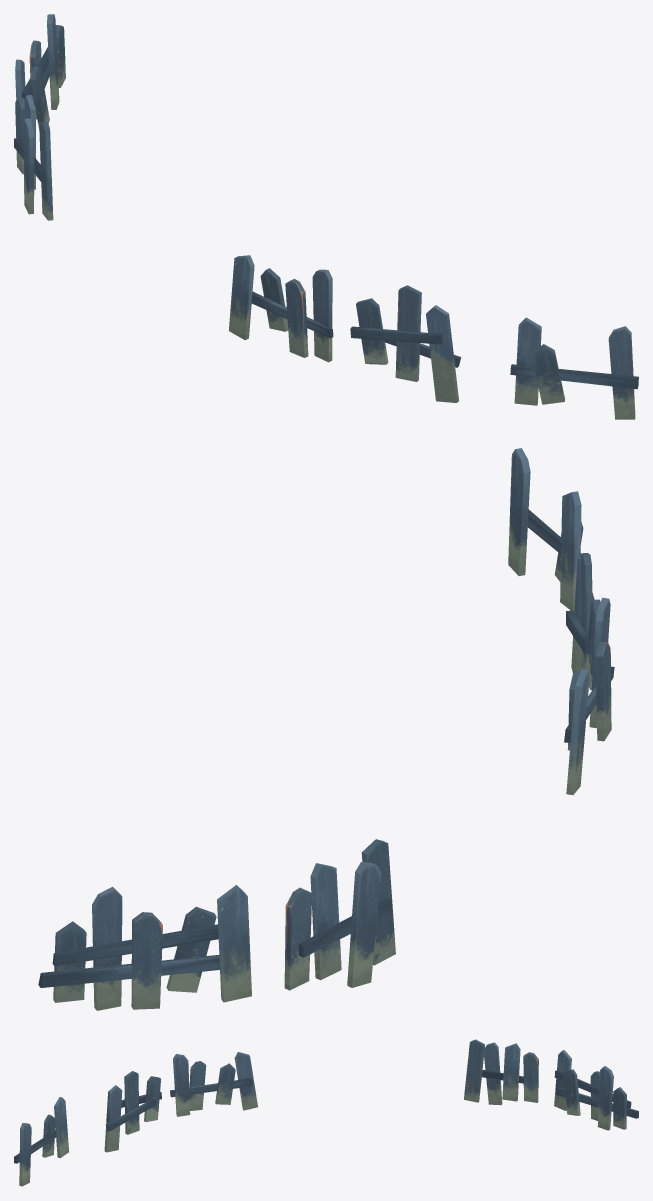
File: Forest_House_Fence.glb
3 views of the same model, one above another, from view 1: azimuth 30°, elevation 25°; view 2: azimuth 150°, elevation 25°; view 3: azimuth 270°, elevation 25° (orthographic). The views are drawn at different scales.
Parts seen in each view (by area): view 1: FenceRight, FenceLeft, FenceRight.003, FenceRight.015; view 2: FenceLeft, FenceRight, FenceRight.015, FenceRight.003; view 3: FenceRight, FenceLeft, FenceRight.003, FenceRight.015.
Boxes of the visible parts, left/top/right/bottom form: FenceRight: left=229, top=255, right=635, bottom=419; FenceLeft: left=15, top=14, right=65, bottom=220; FenceRight.003: left=251, top=291, right=638, bottom=389; FenceRight.015: left=14, top=47, right=49, bottom=181; FenceLeft: left=53, top=839, right=395, bottom=1010; FenceRight: left=508, top=448, right=611, bottom=795; FenceRight.015: left=38, top=898, right=392, bottom=987; FenceRight.003: left=527, top=509, right=614, bottom=742; FenceRight: left=19, top=1052, right=257, bottom=1186; FenceLeft: left=464, top=1039, right=626, bottom=1130; FenceRight.003: left=14, top=1078, right=252, bottom=1163; FenceRight.015: left=481, top=1070, right=638, bottom=1118.
Bounding box in the file's own units: 0.023 × 0.0102 × 0.0743.
1 material, 1 textured.
